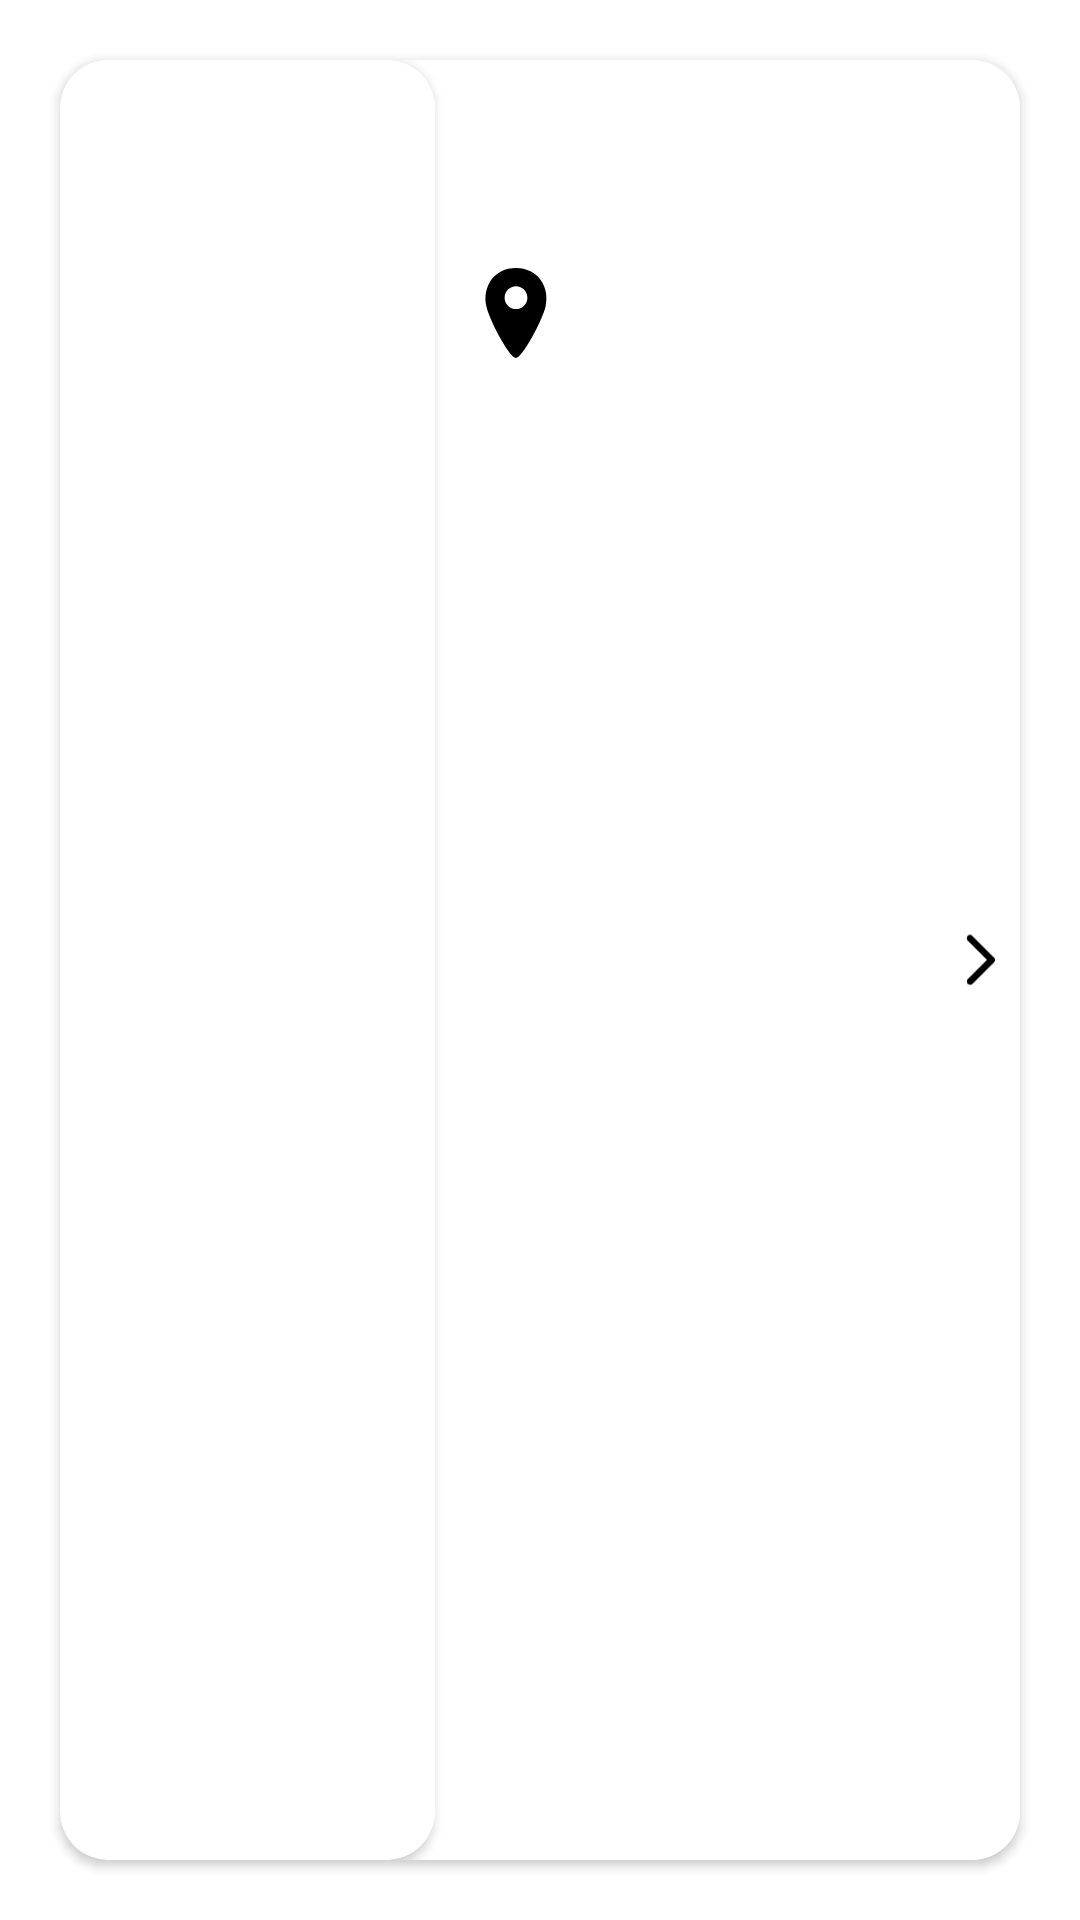

Named icons in this screenshot (1080px x 1920px) and their centers, (x,y):
pin: (516,313)
